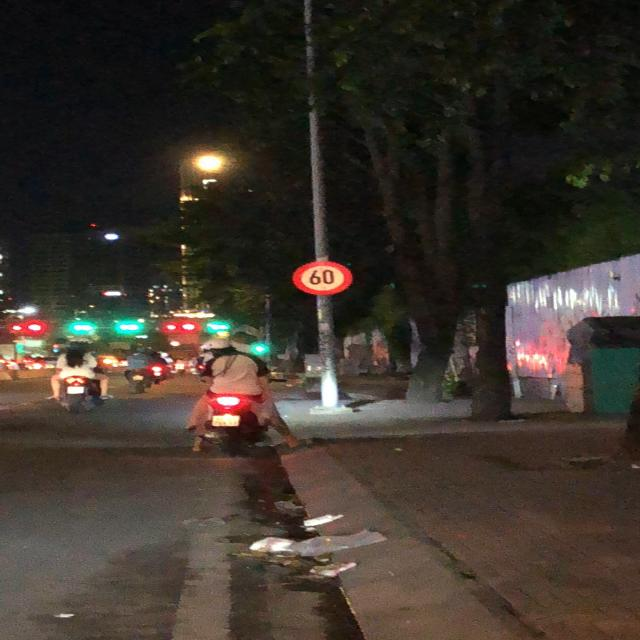Bien bao toc do toi da cho phep: (287, 260, 356, 298)
